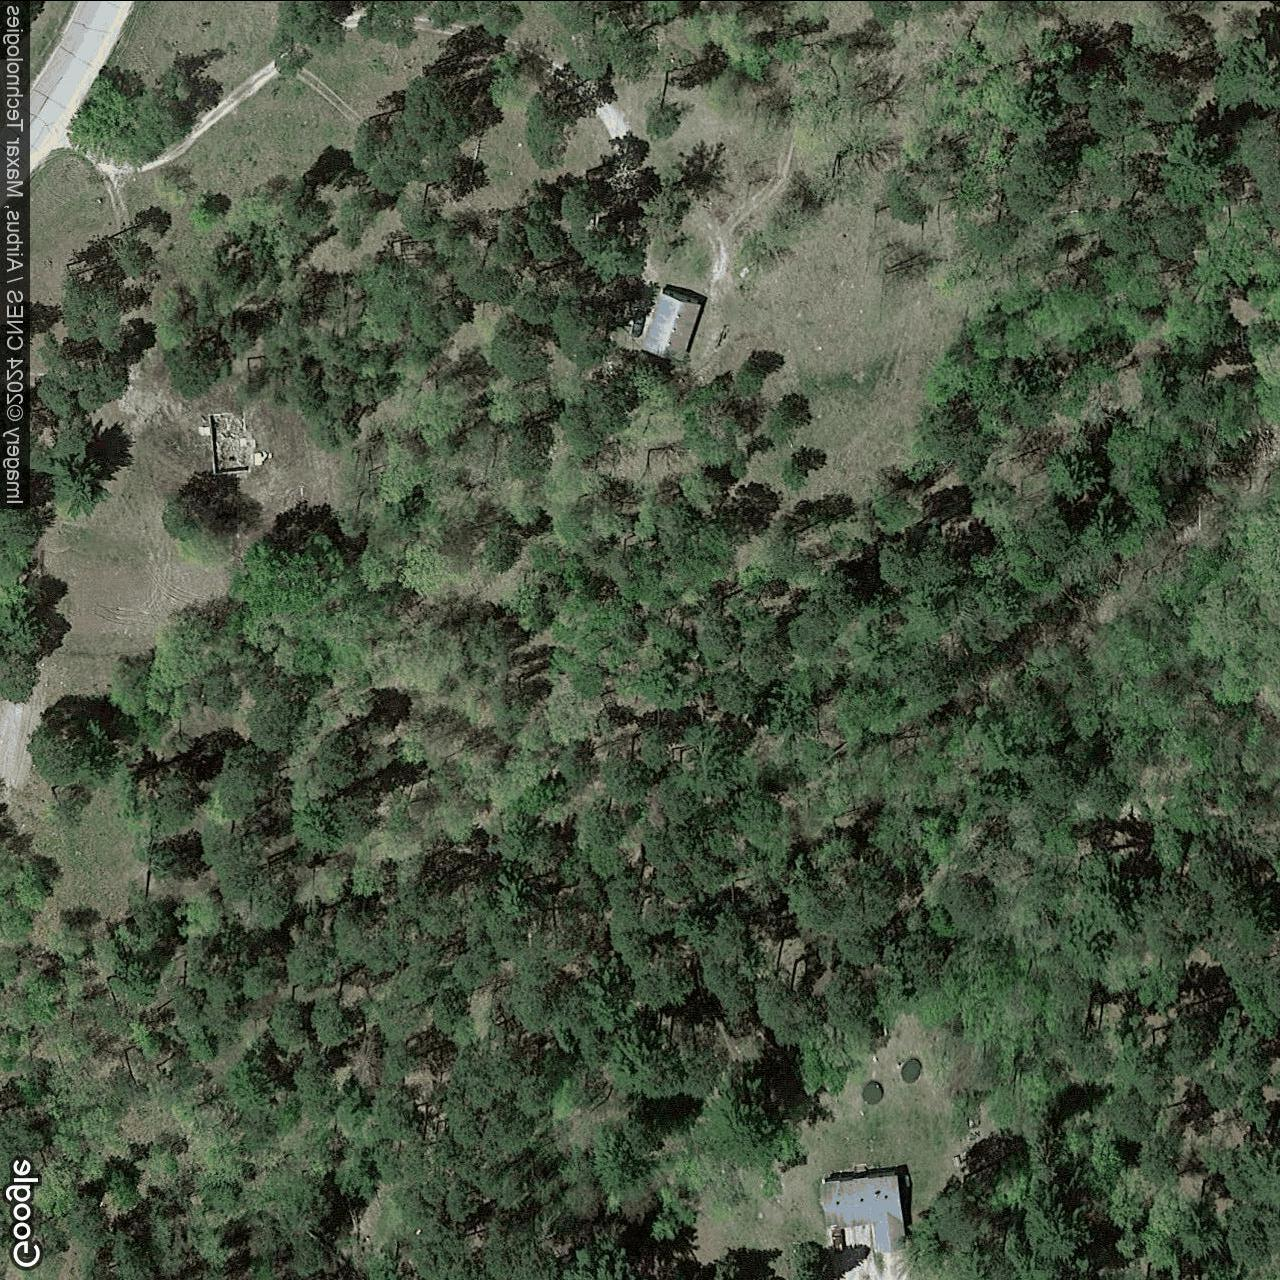House: (816, 1170, 908, 1255), (635, 284, 704, 362)
